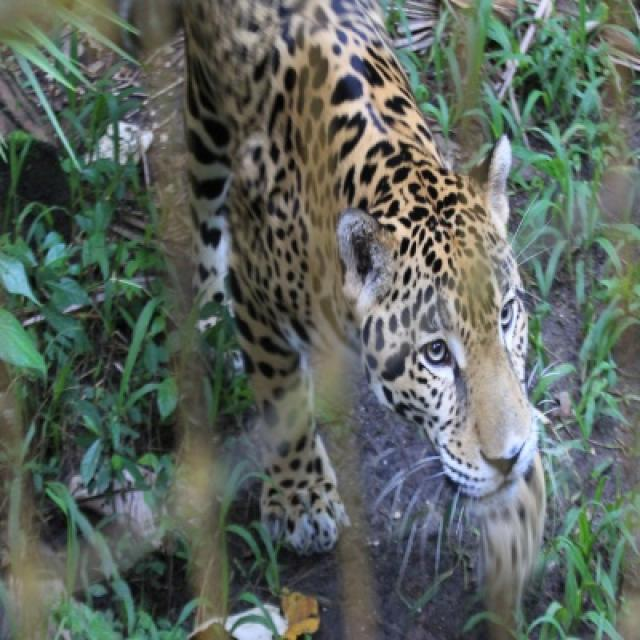Jaguar: (74, 0, 547, 638)
